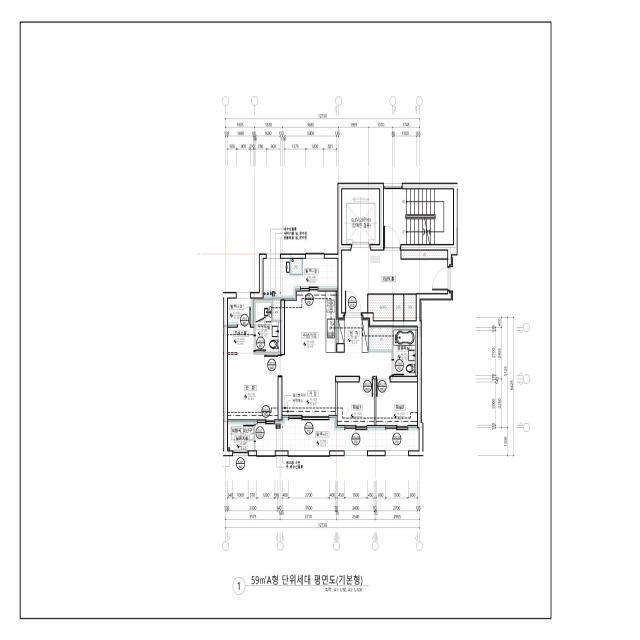space_balconi: (256, 420, 419, 450), (264, 259, 338, 296), (228, 298, 251, 323)
space_bedroom: (228, 354, 278, 422), (376, 382, 417, 428), (336, 382, 374, 428)
space_dressroom: (228, 325, 254, 354)
space_elevator: (342, 189, 379, 244)
space_elevator_hall: (342, 250, 448, 312)
space_front: (338, 315, 369, 353)
space_kitchen: (285, 289, 338, 353)
space_living_room: (282, 352, 392, 418)
space_other: (368, 295, 393, 320), (370, 326, 392, 350), (401, 250, 447, 258), (404, 295, 416, 320), (394, 295, 403, 320), (273, 298, 280, 320), (291, 259, 301, 274)
space_outdoor_room: (228, 424, 254, 450)
space_staircase: (384, 189, 453, 244)
space_toilet: (255, 302, 280, 352), (393, 329, 417, 376)
